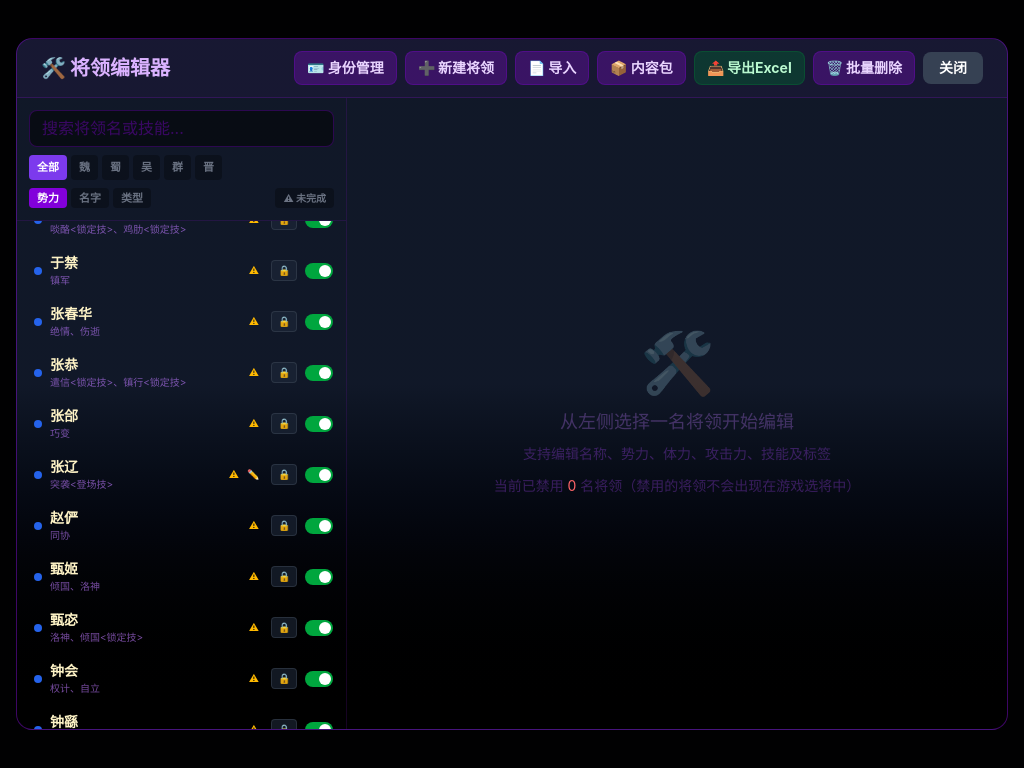
编辑器 · 一枚技能同时挂几枚徽章 › 卡面写登场技而时机不在登场时⇒编辑器行内点名两句话说的是什么事
This screenshot has width=1024, height=768.
(page scrolled)
Click the button "张辽 突袭<登场技> ⚠ ✏️". click: (146, 475)
box: [26,451,267,498]
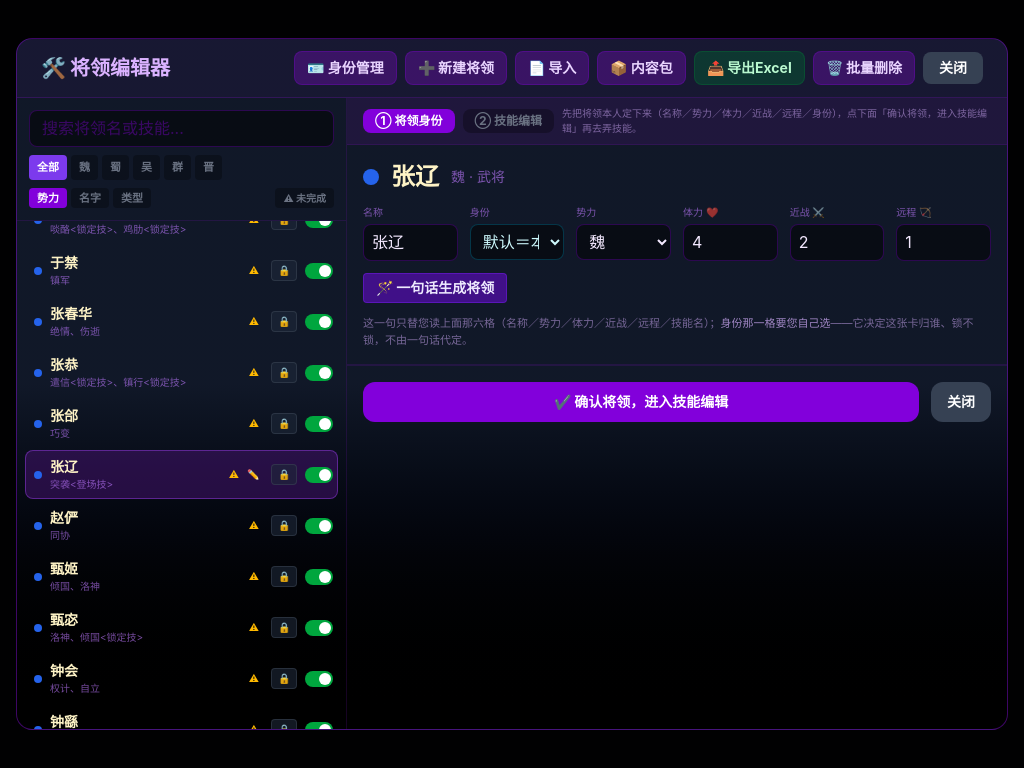
Click the button "② 技能编辑". click: (508, 121)
box: [462,109,554,133]
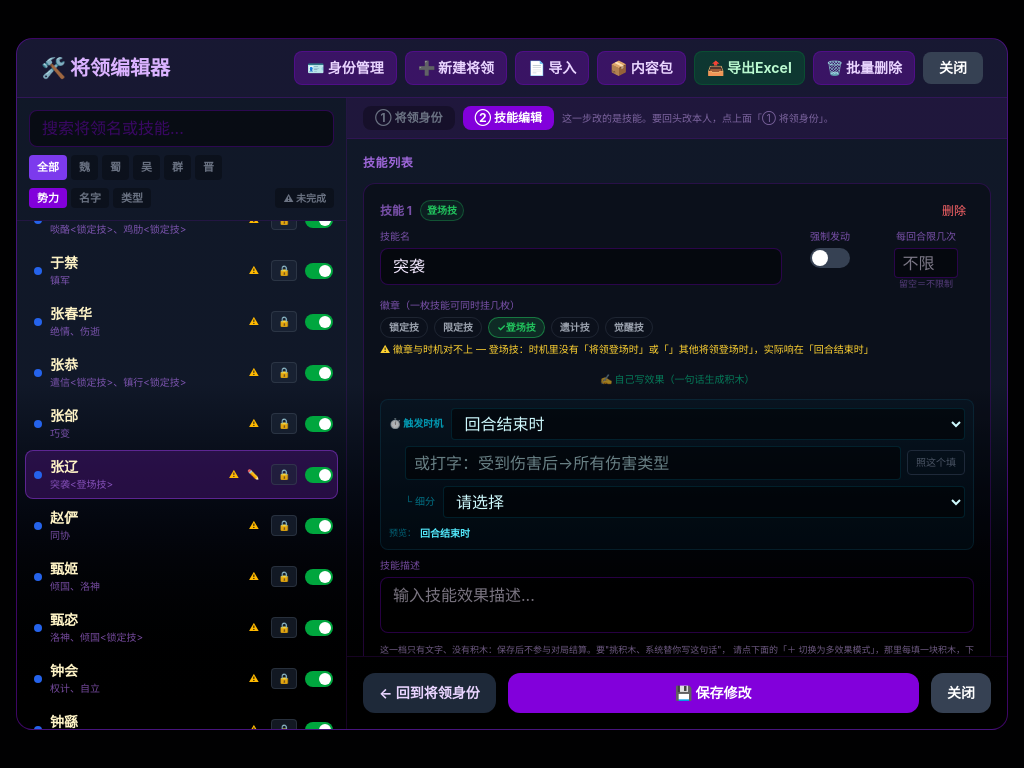
Result: the text "⚠ 徽章与时机对不上 — 登场技：时机里没有「将领登场时」或「」其他将领登场时」，实际响在「回合结束时」" is shown at [380,343,874,355]
